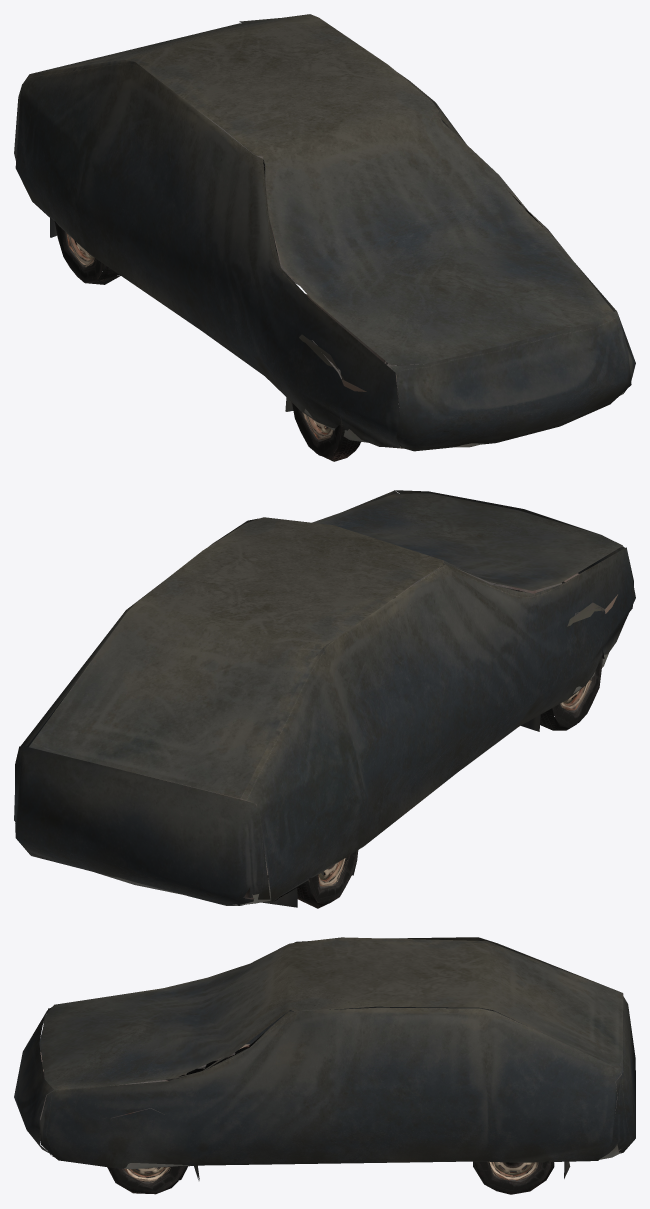
File: covered_car.glb
The picture shows the model from 3 angles, top to bottom: view 1: azimuth 30°, elevation 25°; view 2: azimuth 150°, elevation 25°; view 3: azimuth 270°, elevation 25°; orthographic projection. The views are drawn at different scales.
Visible parts, largest first — view 1: covered_car, covered_car_wheel_02, covered_car_wheel_03; view 2: covered_car, covered_car_wheel_03, covered_car_wheel_02; view 3: covered_car, covered_car_wheel_04, covered_car_wheel_01.
Boxes of the visible parts, x1,y1,x2,y2 form: covered_car: (14, 14, 635, 451); covered_car_wheel_02: (291, 402, 360, 461); covered_car_wheel_03: (54, 221, 120, 284); covered_car: (14, 490, 635, 907); covered_car_wheel_03: (297, 850, 358, 908); covered_car_wheel_02: (540, 650, 604, 730); covered_car: (14, 937, 635, 1180); covered_car_wheel_04: (473, 1159, 554, 1194); covered_car_wheel_01: (107, 1166, 187, 1194).
Size of the model in its own units: 1.8 by 1.39 by 4.38.
2 materials, 2 textured.
